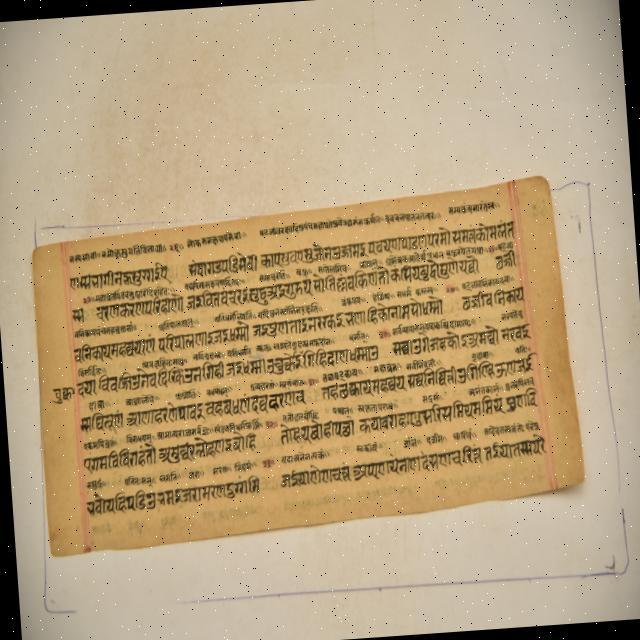text_paragraph: (32, 173, 585, 556)
